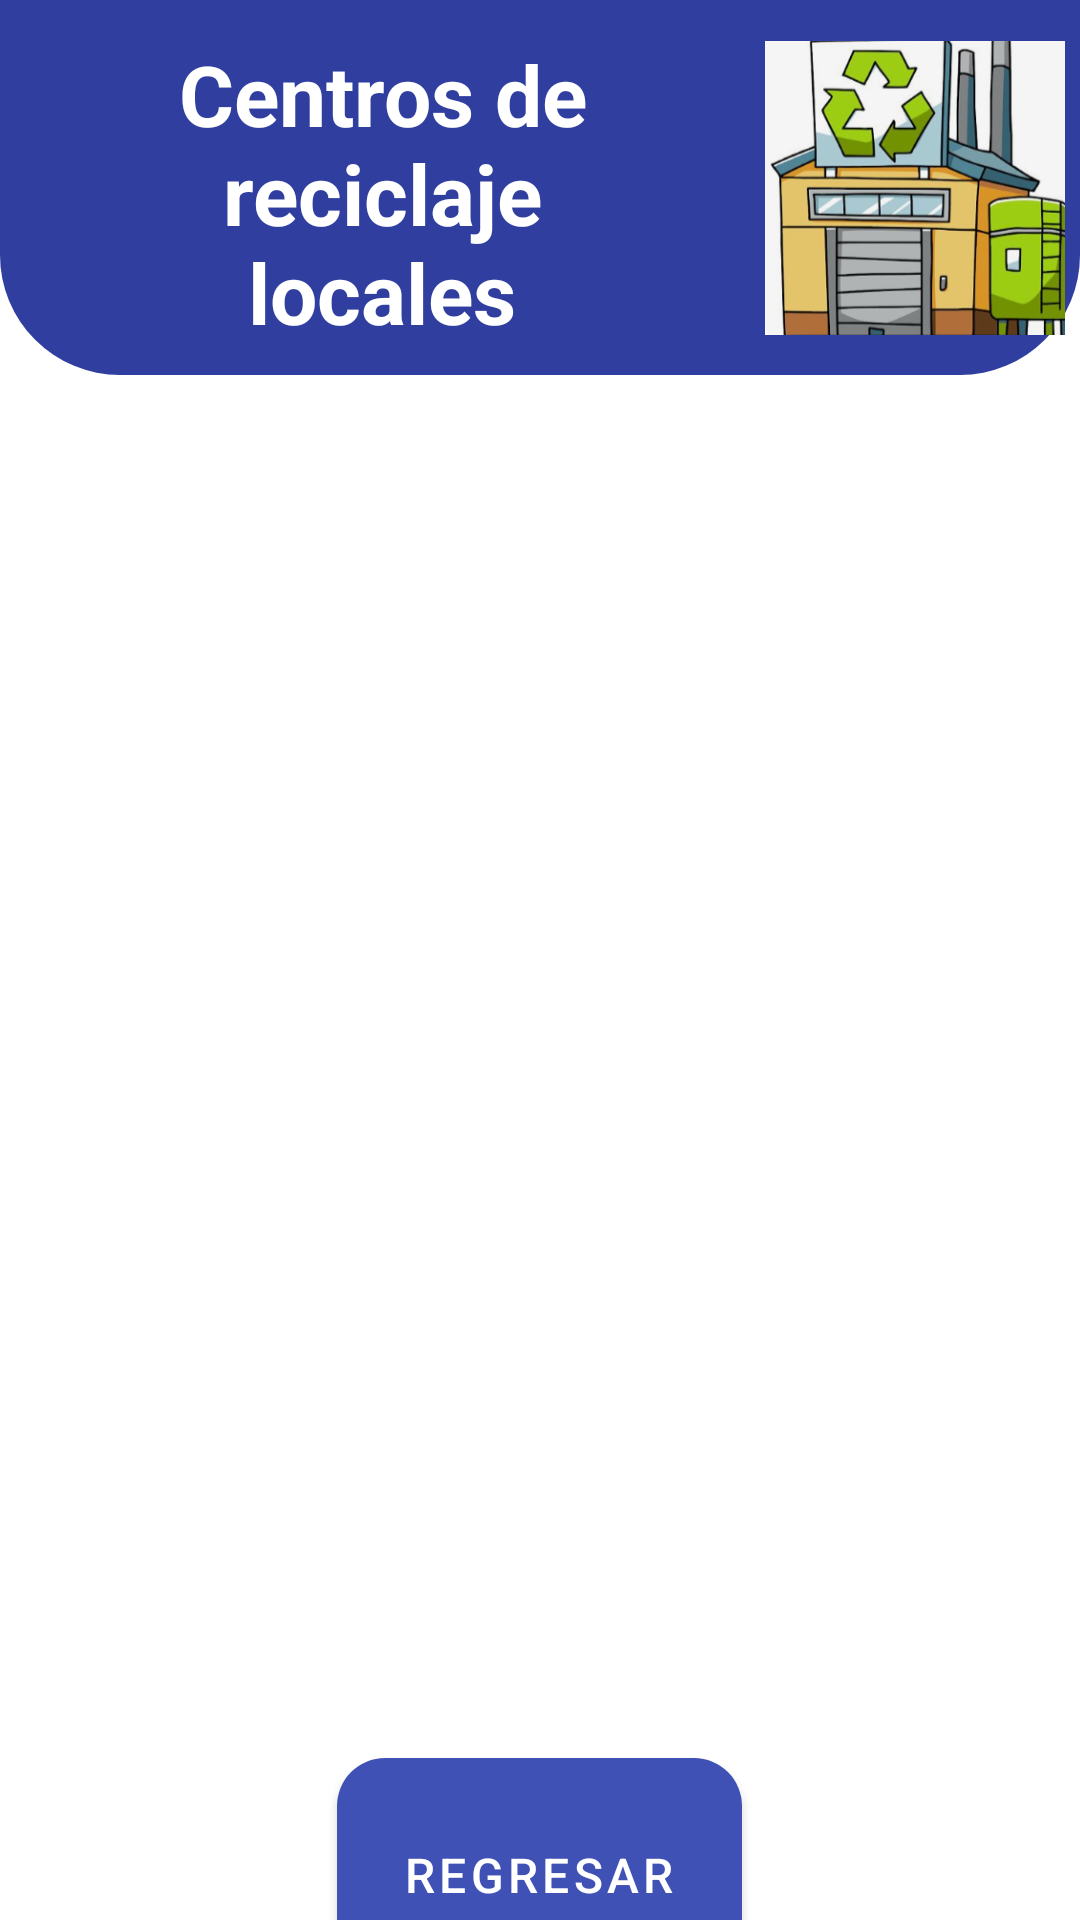

Named icons in this screenshot (1080px x 1920px) and their centers, [x,y]:
centror: [915,189]
